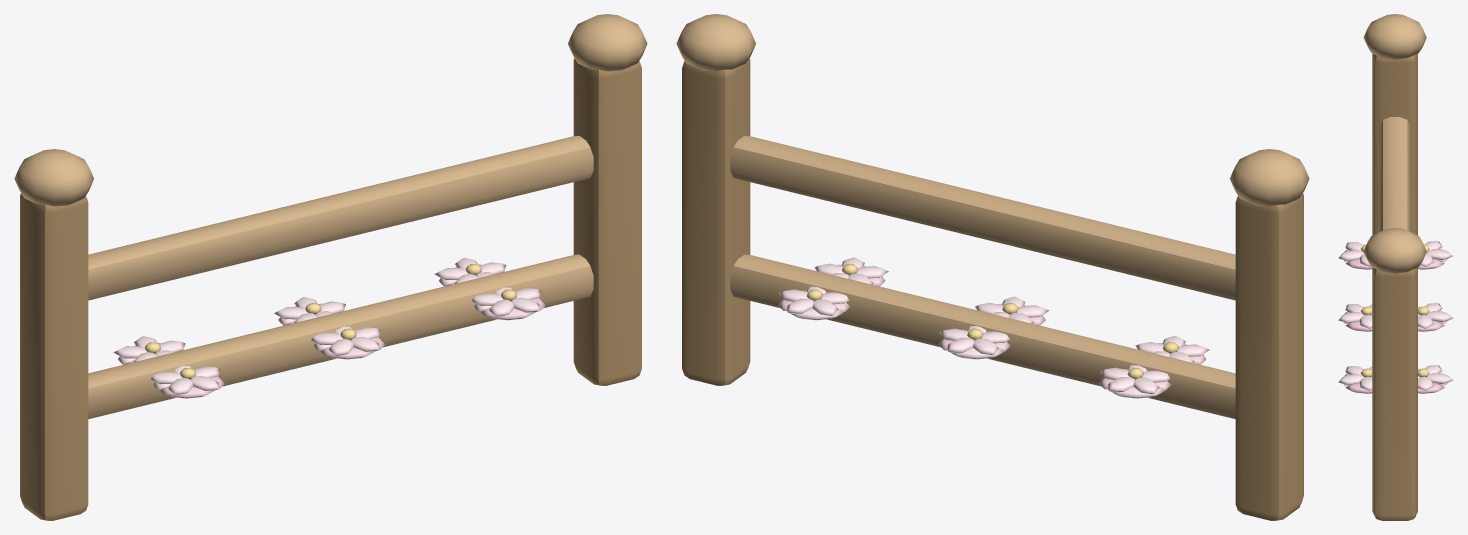
Rendered from fence_spring_v1.glb.
3 renders of one model, left to right at view 1: azimuth 30°, elevation 25°; view 2: azimuth 150°, elevation 25°; view 3: azimuth 270°, elevation 25°, orthographic. The views are drawn at different scales.
Size of the model in its own units: 2.25 by 1.23 by 0.4557.
